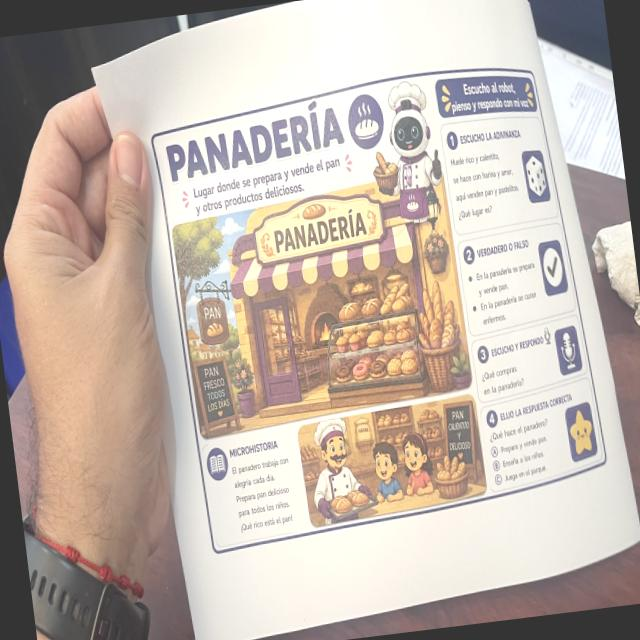panaderia: (141, 50, 616, 561)
